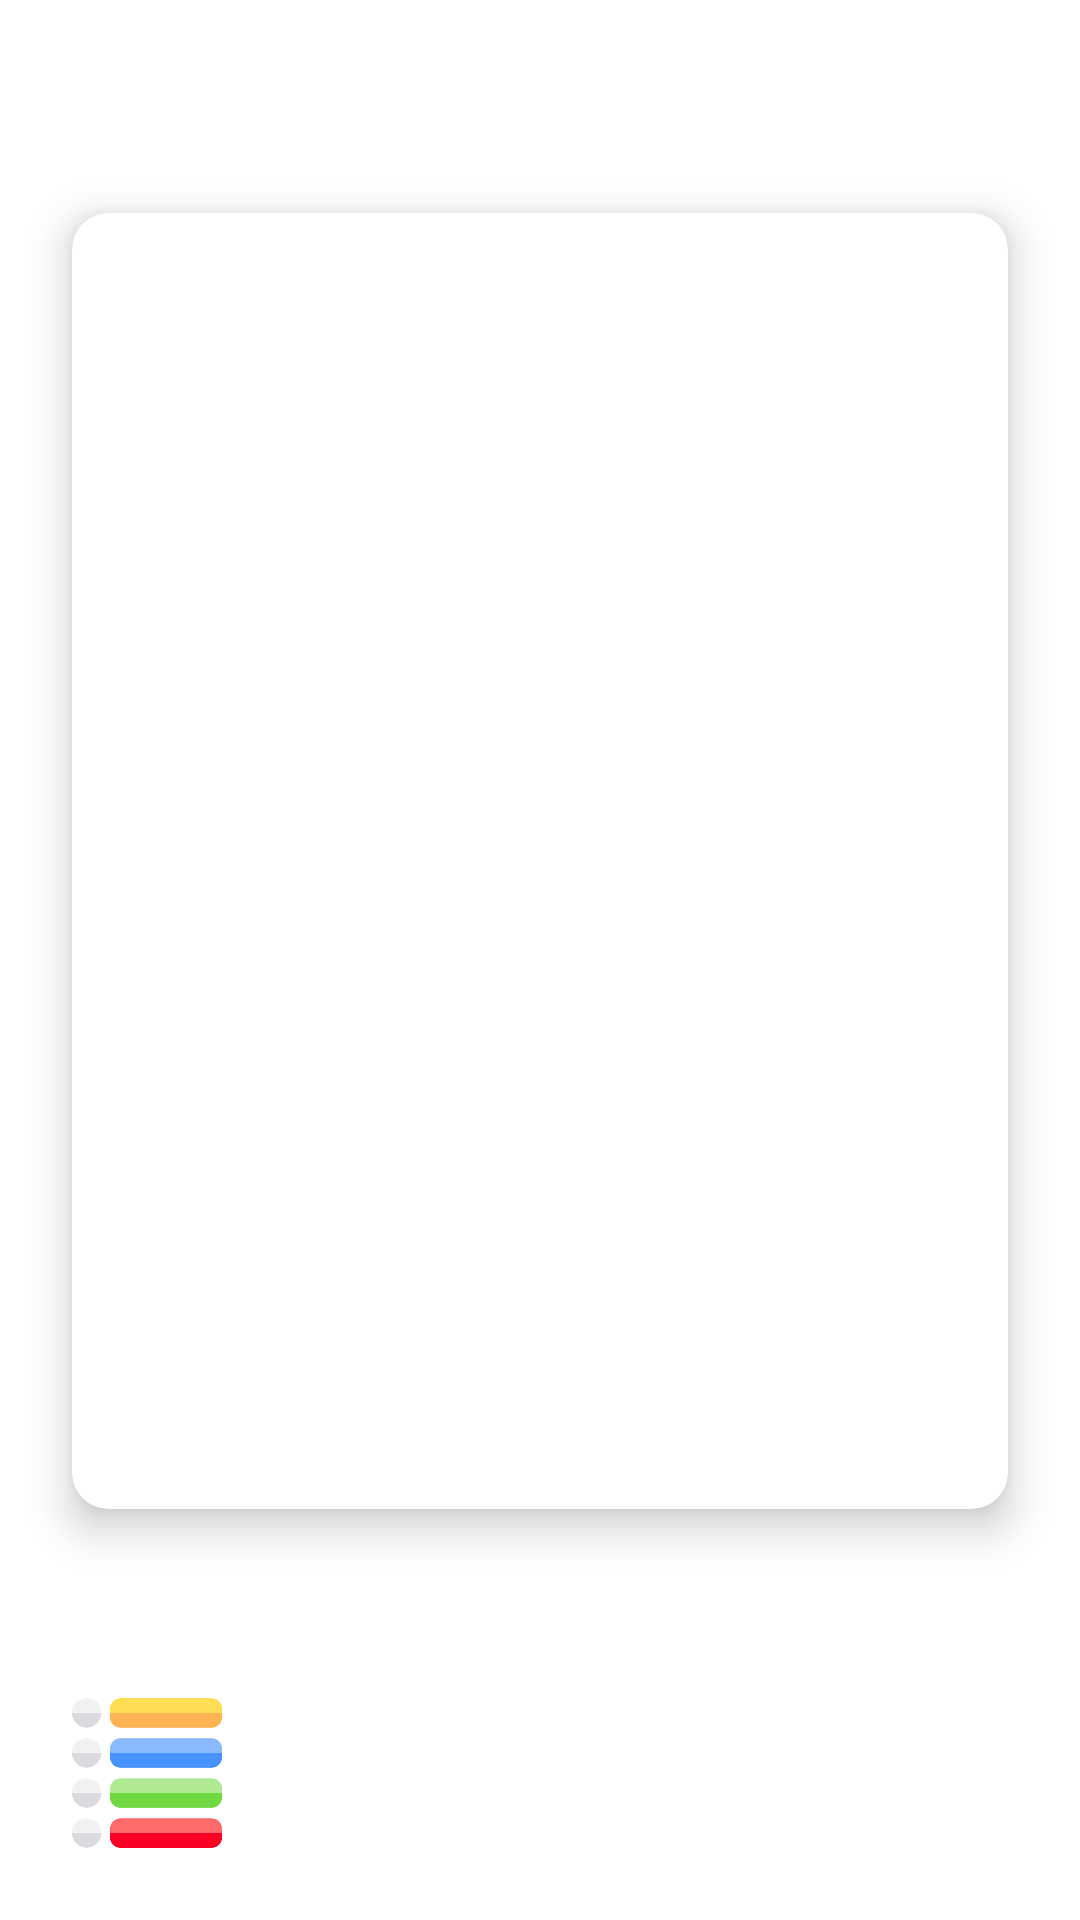

Icons on this 1080 x 1920 Android screen, each with the point to tap as (x,y):
colorchart: (147,1773)
